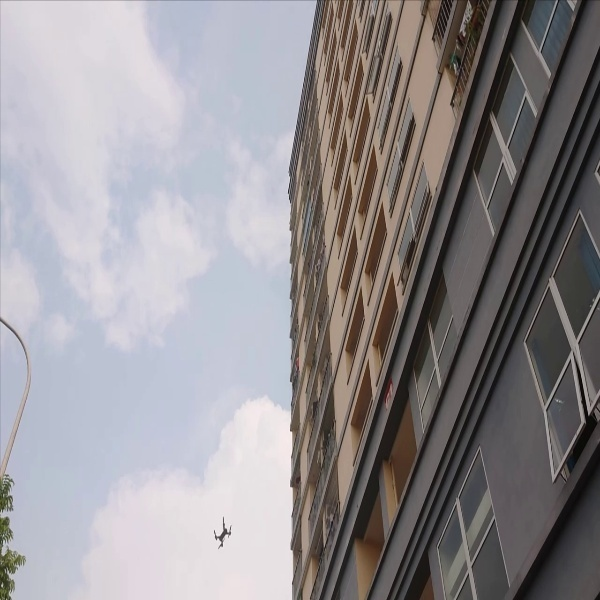drone: (206, 518, 238, 547)
